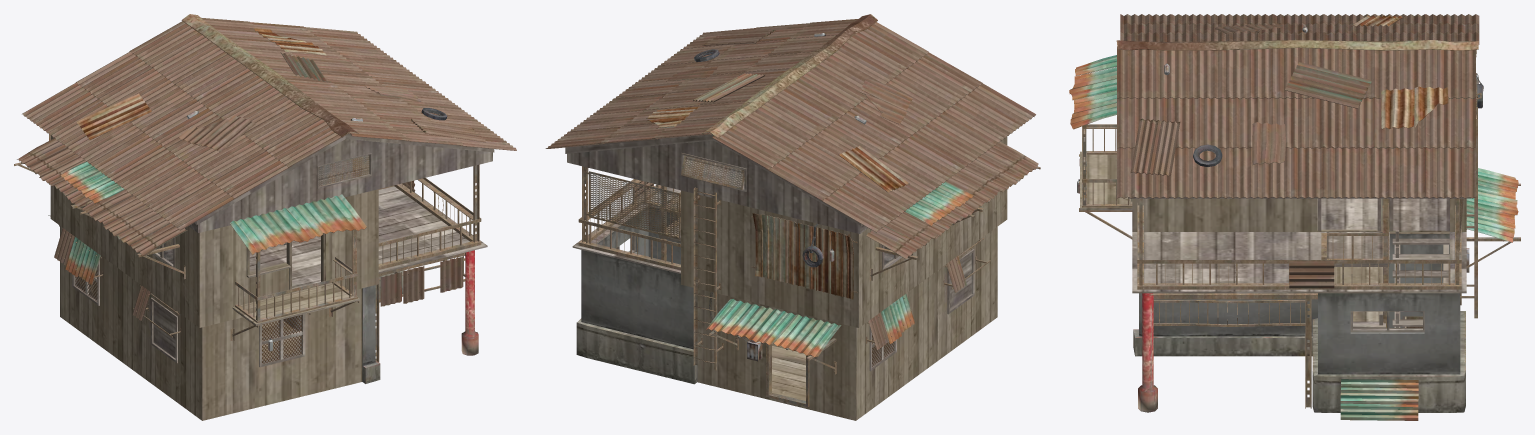
File: house.glb
3 renders of one model, left to right at view 1: azimuth 30°, elevation 25°; view 2: azimuth 150°, elevation 25°; view 3: azimuth 270°, elevation 25°, orthographic. The views are drawn at different scales.
Visible parts, largest first — view 1: Zinc_zinc_0, WoodWall_woodwall_0, Woods_woods_0, Irons_iron_0, Others_others_0, TilesGlass_tilesglass_0; view 2: Zinc_zinc_0, WoodWall_woodwall_0, Others_others_0, Woods_woods_0, Irons_iron_0, TilesGlass_tilesglass_0; view 3: Zinc_zinc_0, Others_others_0, Woods_woods_0, Irons_iron_0, WoodWall_woodwall_0.
Boxes of the visible parts, x1,y1,x2,y2 form: Zinc_zinc_0: (17, 17, 516, 321); WoodWall_woodwall_0: (50, 135, 378, 420); Woods_woods_0: (21, 133, 494, 367); Irons_iron_0: (14, 162, 481, 362); Others_others_0: (181, 14, 478, 383); TilesGlass_tilesglass_0: (75, 154, 369, 363); Zinc_zinc_0: (545, 19, 1038, 357); WoodWall_woodwall_0: (681, 136, 1007, 420); Others_others_0: (576, 14, 877, 384); Woods_woods_0: (565, 134, 974, 371); Irons_iron_0: (578, 166, 1040, 406); TilesGlass_tilesglass_0: (585, 155, 897, 366); Zinc_zinc_0: (1069, 14, 1518, 420); Others_others_0: (1077, 26, 1483, 412); Woods_woods_0: (1080, 151, 1471, 332); Irons_iron_0: (1079, 73, 1520, 408); WoodWall_woodwall_0: (1132, 198, 1466, 327).
Size of the model in its own units: 11.63 by 8.2 by 11.32.
6 materials, 6 textured.
